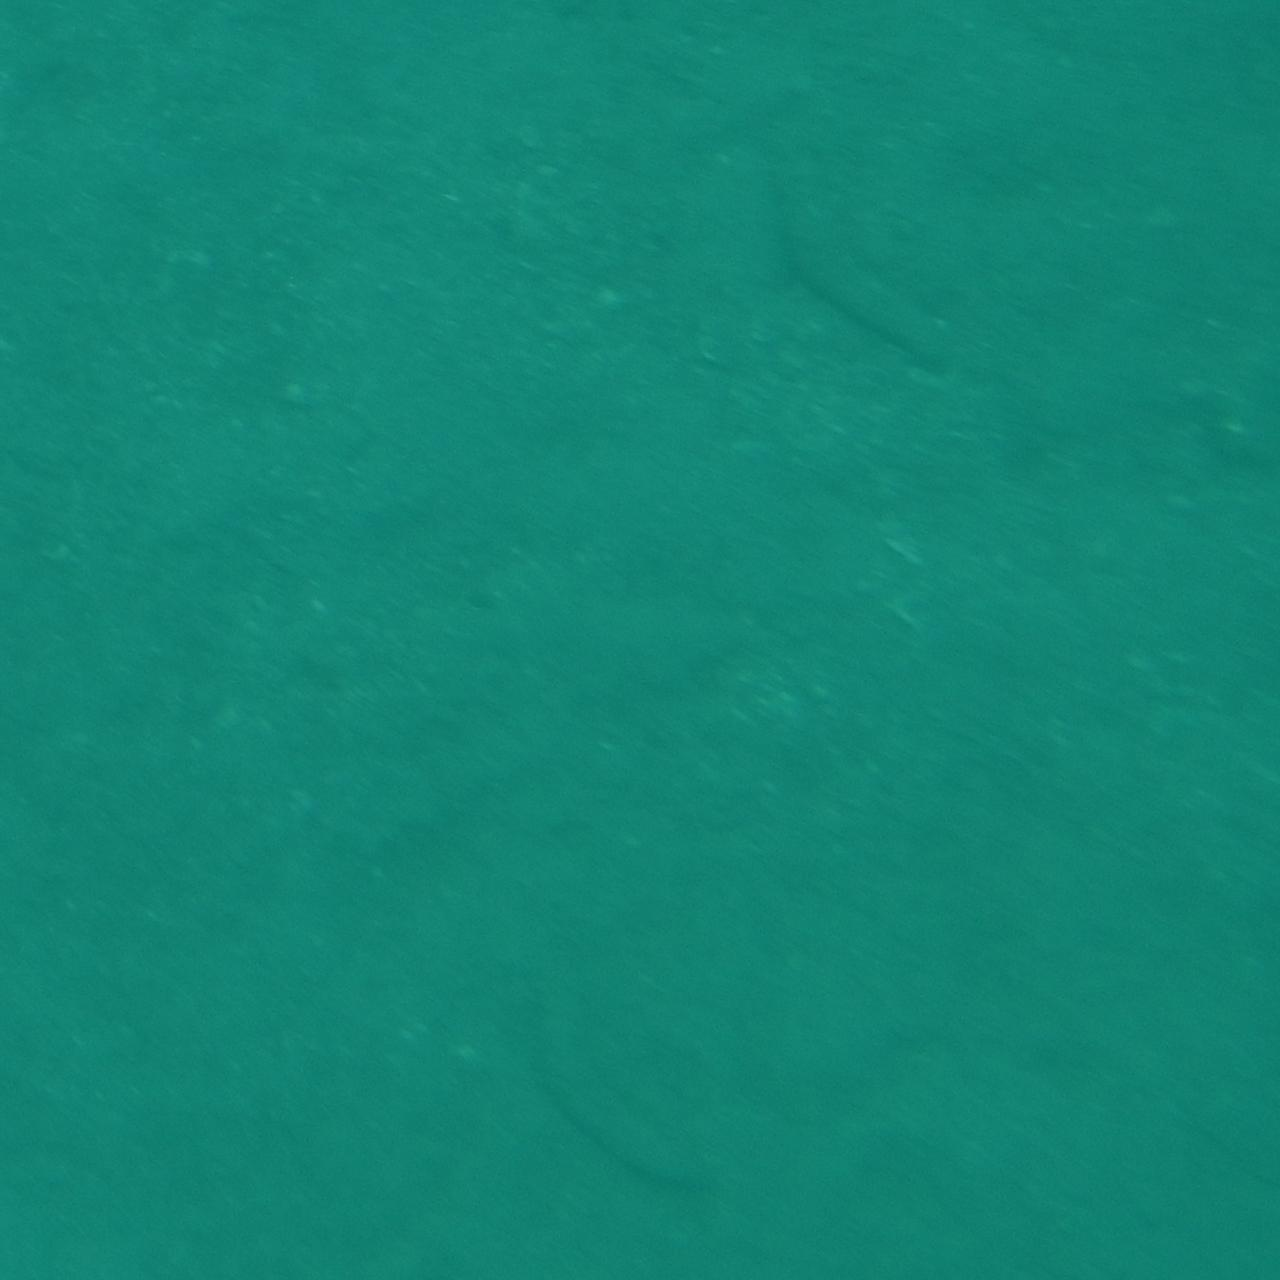Holothuria tubulosa: (788, 122, 1024, 388), (533, 981, 741, 1213)
